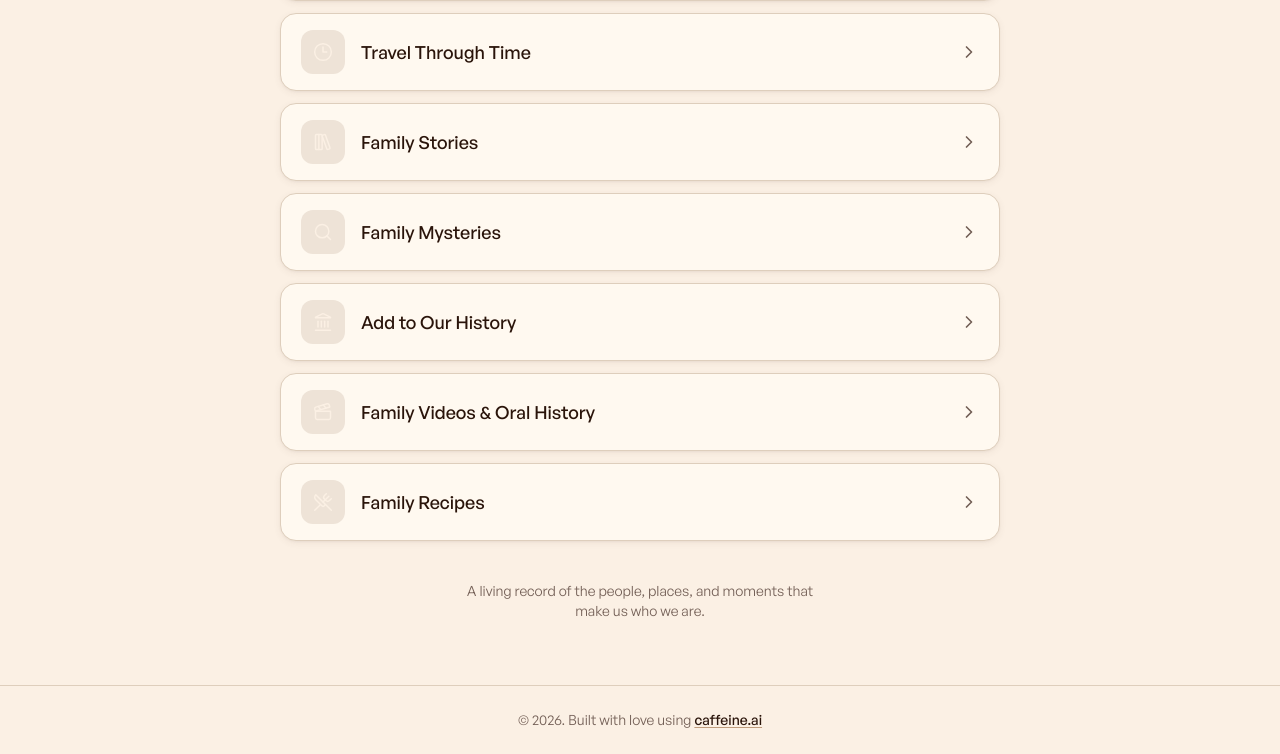
Test: Family Recipes page › is reachable from Home and is not a permanent global navbar pill
(page scrolled)
Click the button "Family Recipes" at [323, 502], box left=280, top=463, right=1000, bottom=541
(page scrolled)
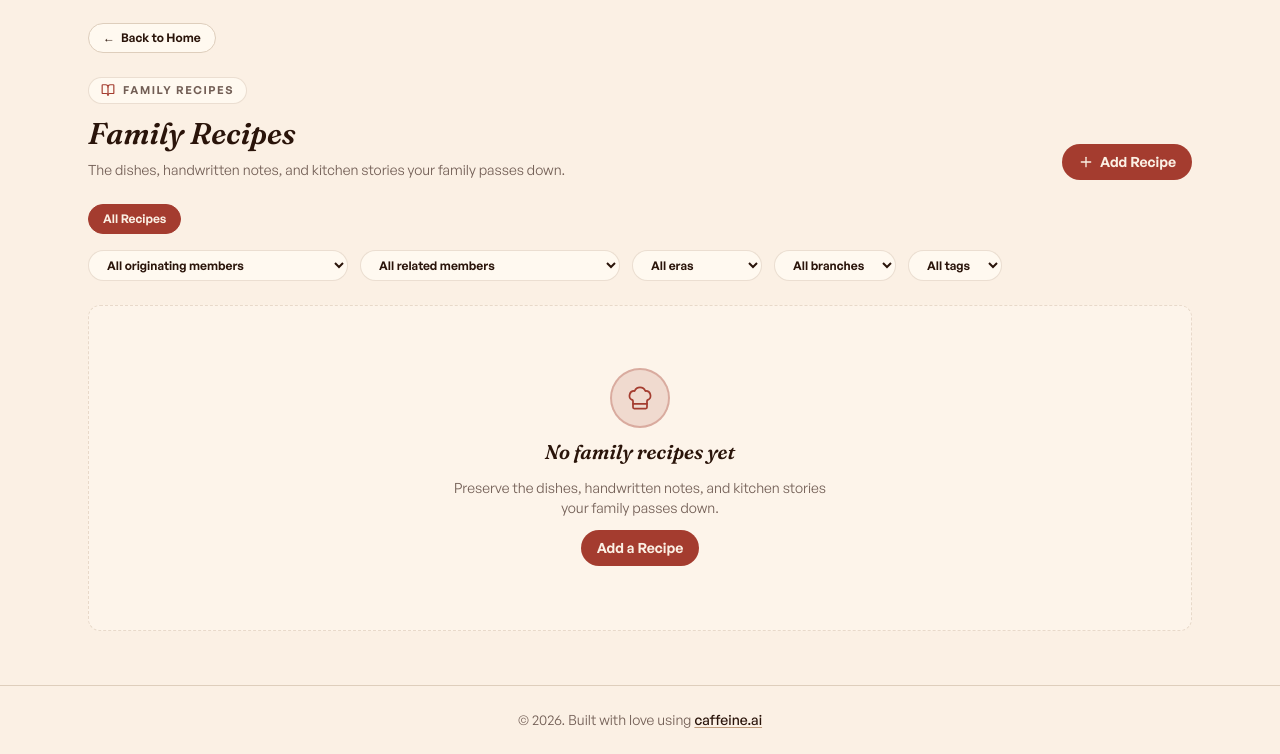
expect the heading "Family Recipes" is shown: met, box left=88, top=114, right=296, bottom=152
